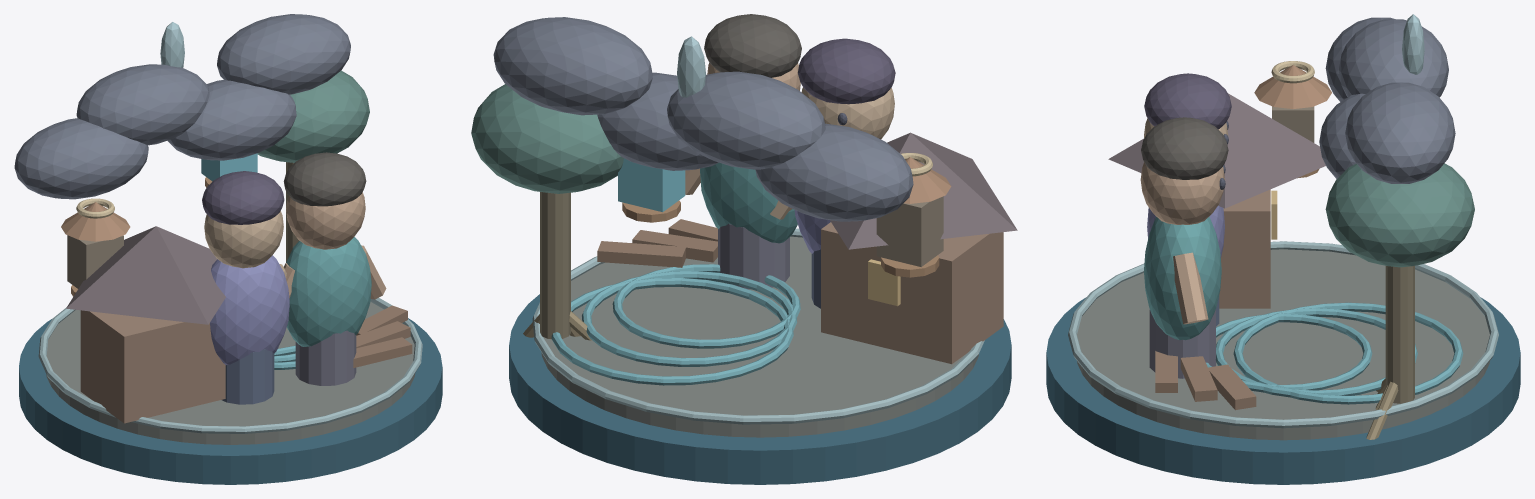
The model's file is lanterns-of-luntian-bay-scene-1.glb.
3 views of the same model, side by side, from view 1: azimuth 30°, elevation 25°; view 2: azimuth 150°, elevation 25°; view 3: azimuth 270°, elevation 25° (orthographic). The views are drawn at different scales.
Visible parts, largest first — view 1: deep water plinth, shore or habitat, grandmother porch, porch roof, storm cloud 3, storm cloud 0, storm cloud 1, Tomas coat, storm cloud 2, Mira coat, wind-bent tree canopy, outer waterline (+14 smaller); view 2: shore or habitat, deep water plinth, grandmother porch, storm cloud 3, storm cloud 1, wind-bent tree canopy, storm cloud 0, porch roof, storm cloud 2, outer waterline, Mira hair, Tomas hair (+18 smaller); view 3: shore or habitat, deep water plinth, wind-bent tree canopy, storm cloud 3, outer waterline, porch roof, Tomas coat, storm cloud 1, grandmother porch, Tomas hair, wind-bent tree trunk, rough wave 0 (+17 smaller).
Boxes of the visible parts, left/top/right/bottom form: deep water plinth: left=19, top=318, right=442, bottom=484; shore or habitat: left=46, top=302, right=415, bottom=444; grandmother porch: left=80, top=310, right=225, bottom=423; porch roof: left=66, top=226, right=225, bottom=324; storm cloud 3: left=217, top=14, right=350, bottom=94; storm cloud 0: left=14, top=118, right=148, bottom=199; storm cloud 1: left=76, top=64, right=209, bottom=145; Tomas coat: left=286, top=237, right=371, bottom=346; storm cloud 2: left=167, top=79, right=296, bottom=160; Mira coat: left=210, top=255, right=289, bottom=364; wind-bent tree canopy: left=257, top=70, right=369, bottom=162; outer waterline: left=38, top=297, right=422, bottom=433; shore or habitat: left=541, top=236, right=978, bottom=437; deep water plinth: left=509, top=294, right=1011, bottom=484; grandmother porch: left=821, top=222, right=1003, bottom=364; storm cloud 3: left=493, top=17, right=652, bottom=115; storm cloud 1: left=667, top=71, right=825, bottom=169; wind-bent tree canopy: left=471, top=84, right=623, bottom=193; storm cloud 0: left=755, top=123, right=913, bottom=221; porch roof: left=830, top=132, right=1017, bottom=249; storm cloud 2: left=597, top=72, right=718, bottom=170; outer waterline: left=532, top=228, right=984, bottom=424; Mira hair: left=797, top=38, right=895, bottom=104; Tomas hair: left=704, top=14, right=801, bottom=77; shore or habitat: left=1077, top=249, right=1489, bottom=440; deep water plinth: left=1046, top=297, right=1520, bottom=484; wind-bent tree canopy: left=1325, top=163, right=1474, bottom=267; storm cloud 3: left=1345, top=82, right=1455, bottom=183; outer waterline: left=1068, top=241, right=1498, bottom=428; porch roof: left=1108, top=93, right=1325, bottom=208; Tomas coat: left=1144, top=217, right=1221, bottom=340; storm cloud 1: left=1338, top=19, right=1448, bottom=97; grandmother porch: left=1219, top=189, right=1270, bottom=308; Tomas hair: left=1141, top=117, right=1228, bottom=179; wind-bent tree trunk: left=1385, top=266, right=1414, bottom=403; rough wave 0: left=1233, top=302, right=1463, bottom=404.
Bounding box in the file's own units: 0.7748 × 0.6552 × 0.7592.
